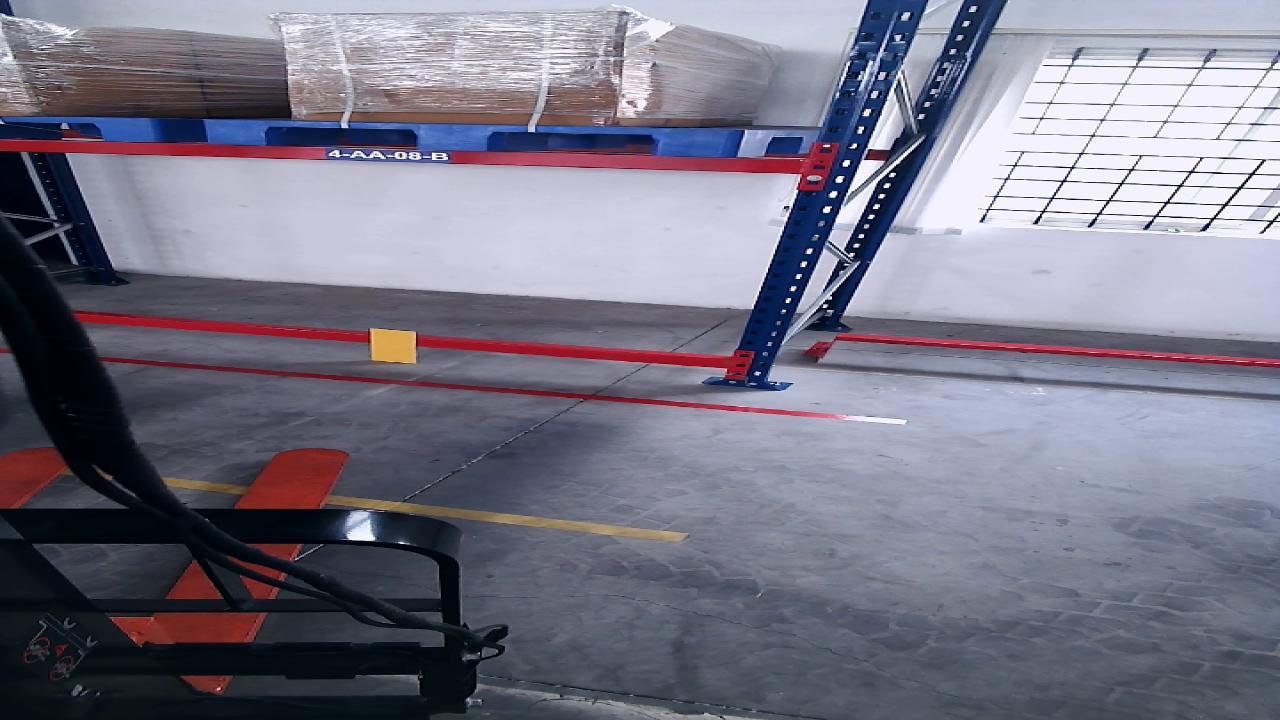h_rack: (71, 313, 725, 368), (0, 139, 801, 173)
orange_strip: (370, 329, 418, 363)
red_line: (100, 357, 902, 425)
small_pallet: (207, 120, 741, 157)
yellow_line: (167, 474, 689, 543)
